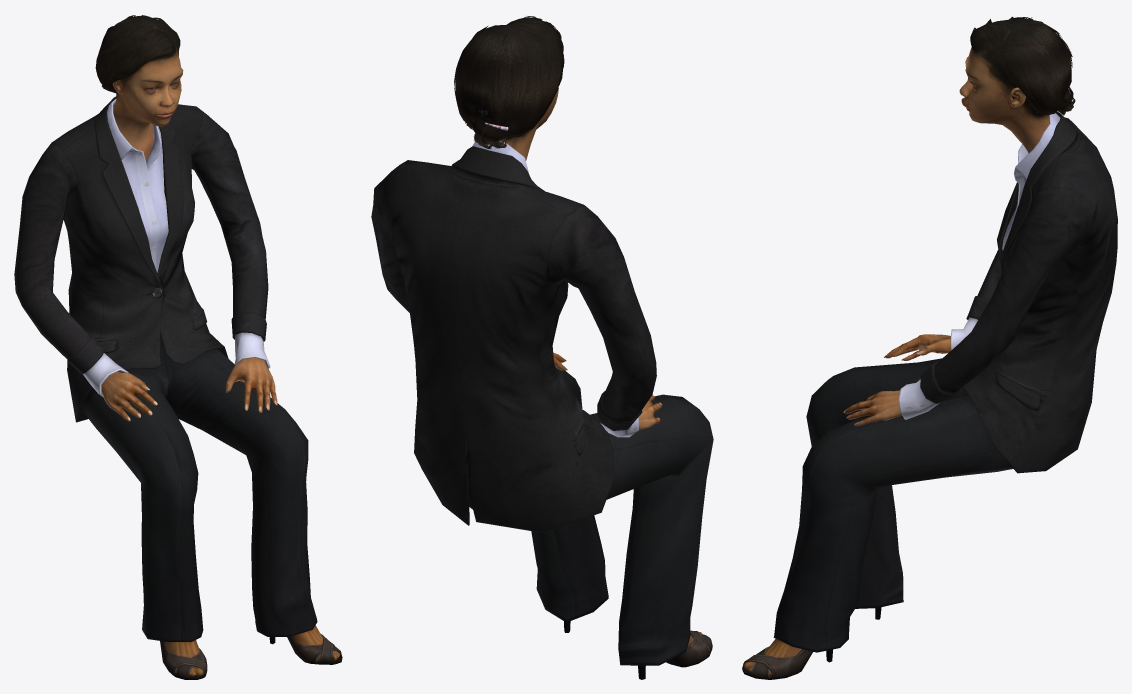
File: guest-woman.glb
3 views of the same model, side by side, from view 1: azimuth 30°, elevation 25°; view 2: azimuth 150°, elevation 25°; view 3: azimuth 270°, elevation 25° (orthographic). The views are drawn at different scales.
Visible parts, largest first — view 1: f014_hipoly_81_bones_opacity; view 2: f014_hipoly_81_bones_opacity; view 3: f014_hipoly_81_bones_opacity.
Boxes of the visible parts, <box> form: f014_hipoly_81_bones_opacity: <box>14,15,342,679</box>; f014_hipoly_81_bones_opacity: <box>371,16,713,679</box>; f014_hipoly_81_bones_opacity: <box>742,16,1117,679</box>.
Size of the model in its own units: 62.53 by 148 by 81.36.
3 materials, 3 textured.
